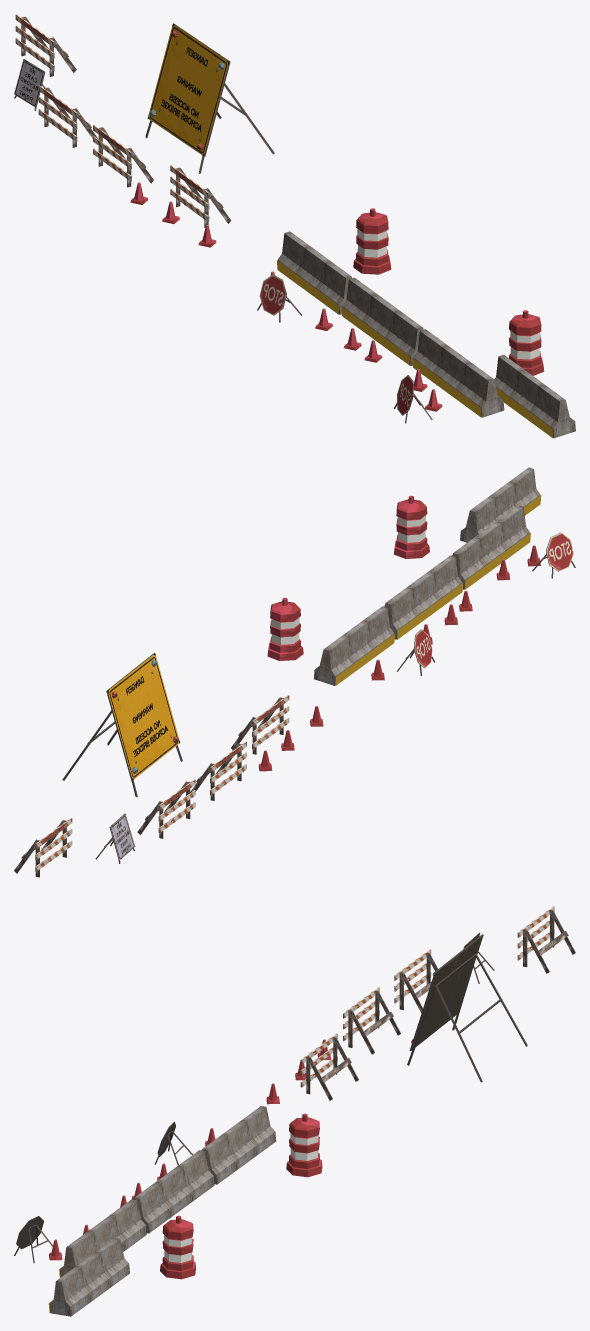
File: ce_makospan1ld.obj
3 renders of one model, top to bottom at view 1: azimuth 30°, elevation 25°; view 2: azimuth 150°, elevation 25°; view 3: azimuth 330°, elevation 25°, orthographic. The views are drawn at different scales.
Parts seen in each view (by area): view 1: CE_Makospan1ld; view 2: CE_Makospan1ld; view 3: CE_Makospan1ld.
Part boxes in pixels (x1,y1,x2,y2): CE_Makospan1ld: [14, 14, 575, 438]; CE_Makospan1ld: [14, 467, 575, 877]; CE_Makospan1ld: [14, 906, 575, 1316].
Bounding box in the file's own units: 7.26 × 4.18 × 37.09.
4 materials, 4 textured.
